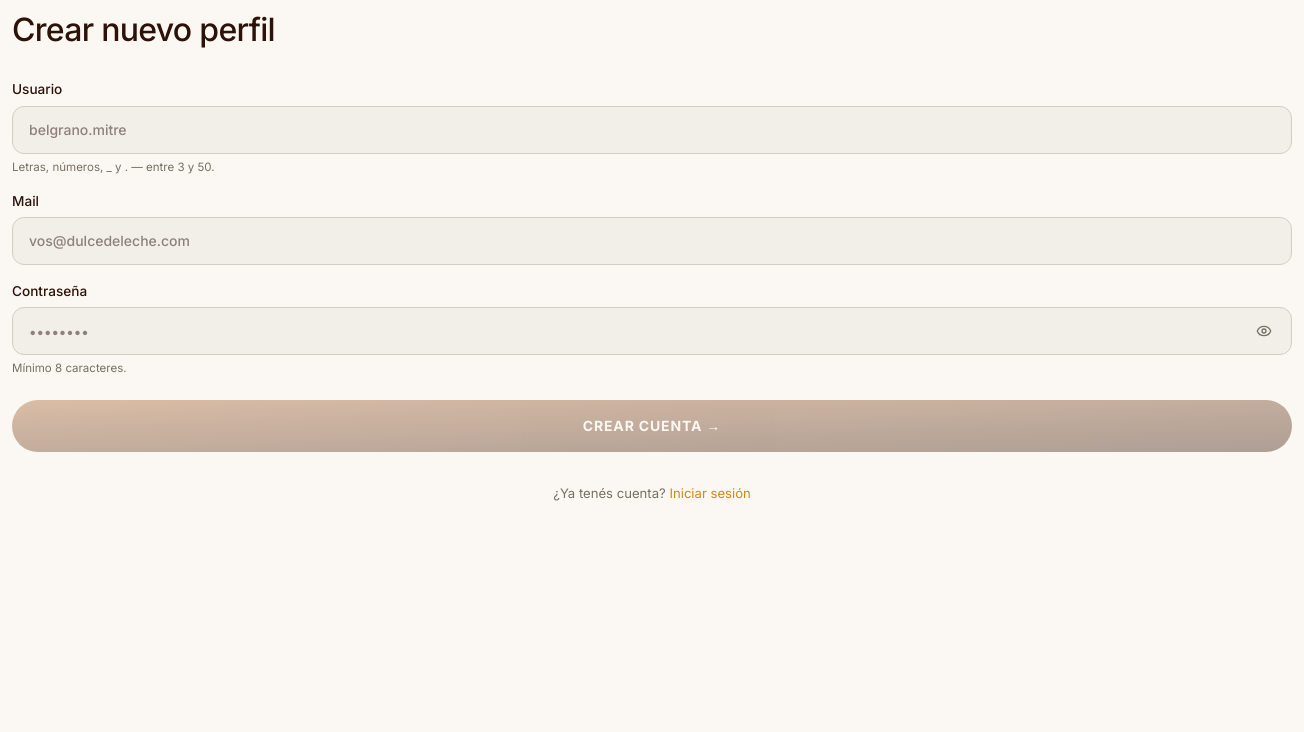
Test: SignUpForm › passes through an unrecognized 409 message
In the field labelled "Usuario": (652, 130) [12,106,1292,154], type "belgrano"
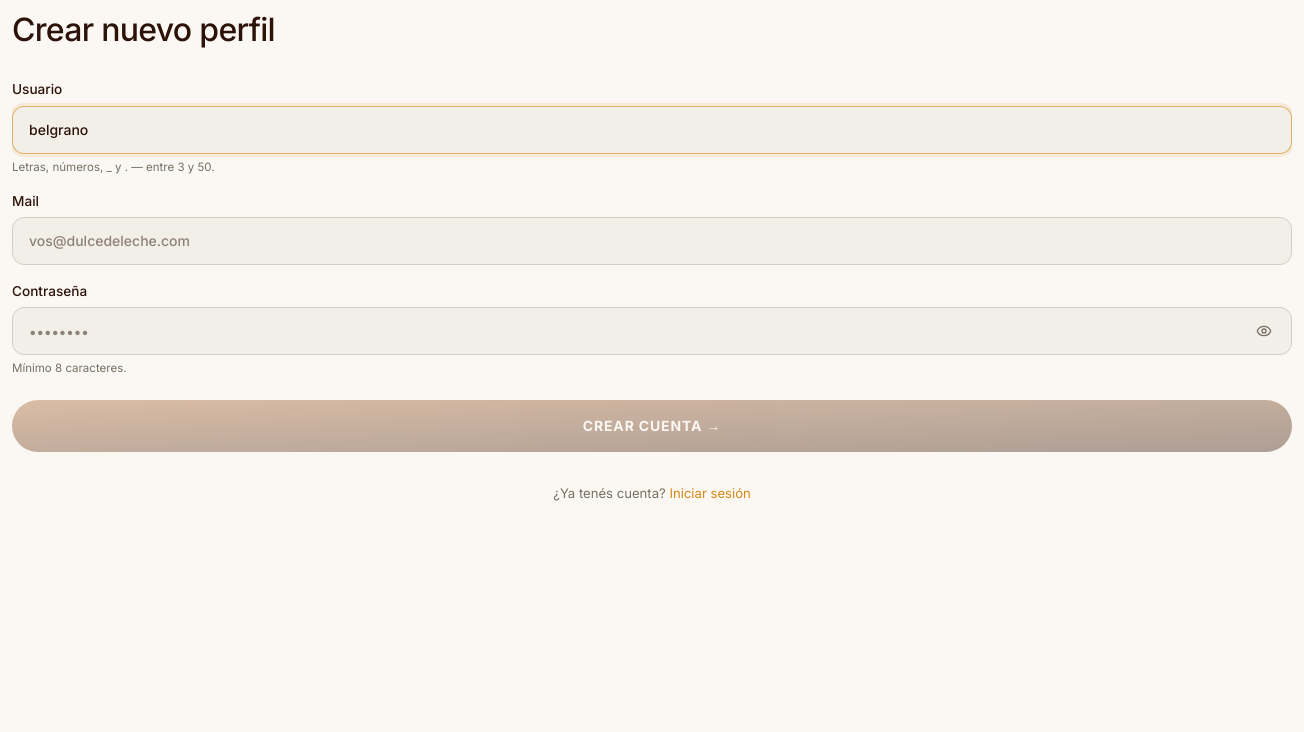
In the field labelled "Mail": (652, 241) [12,217,1292,265], type "a@b.com"
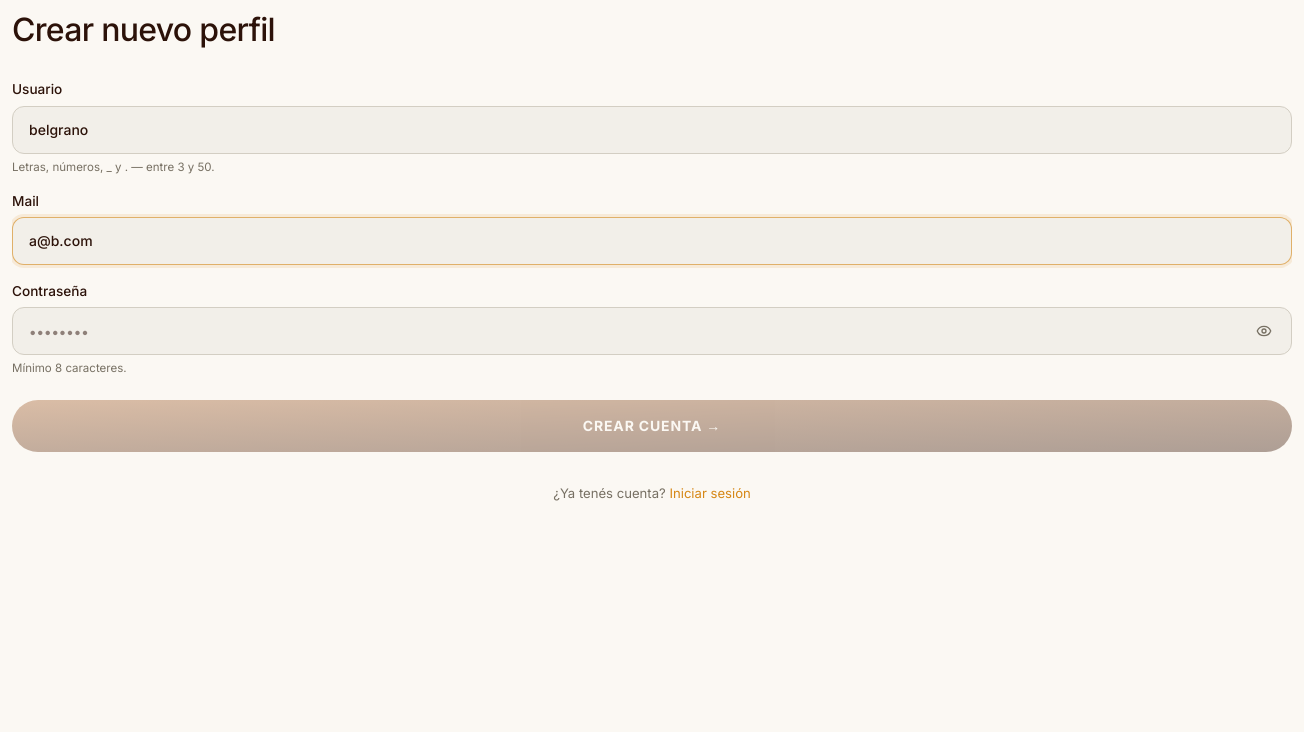
In the password field labelled "Contraseña": (652, 331) [12,307,1292,355], type "longenough"
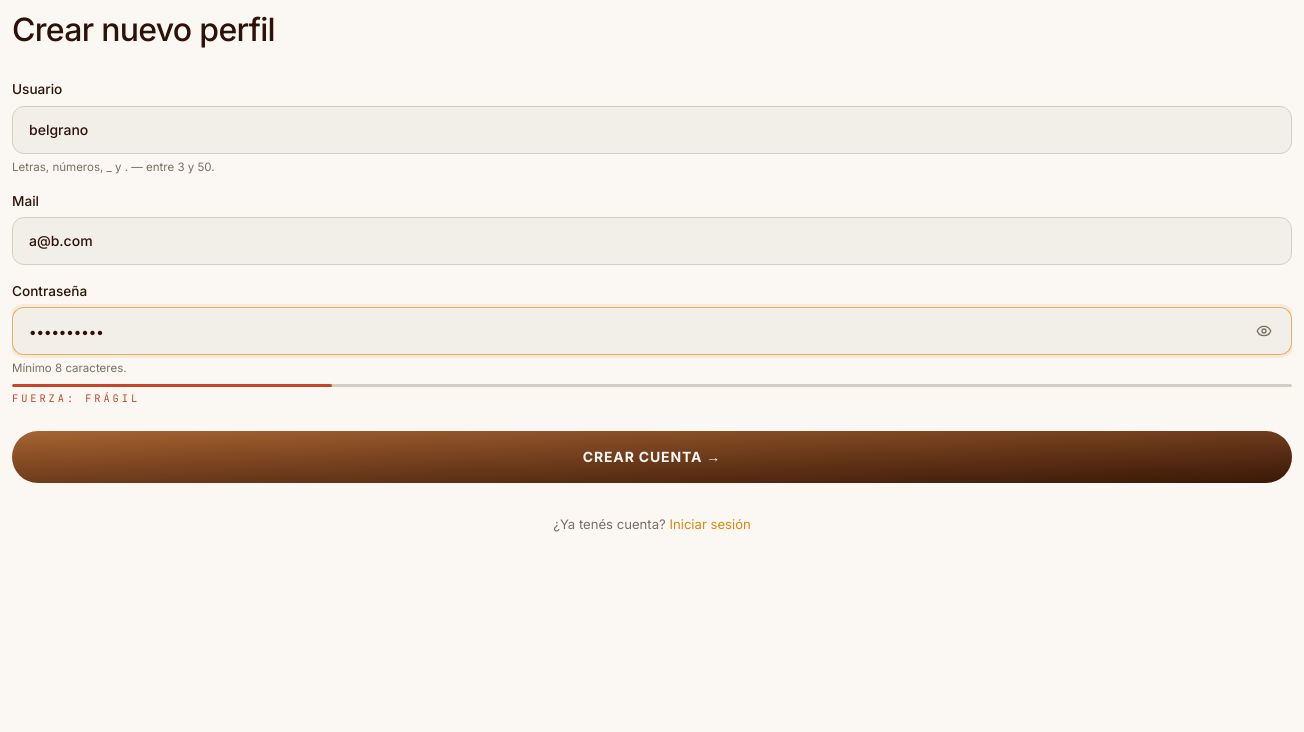
Click the button "Crear cuenta →": (652, 457) [12,431,1292,483]
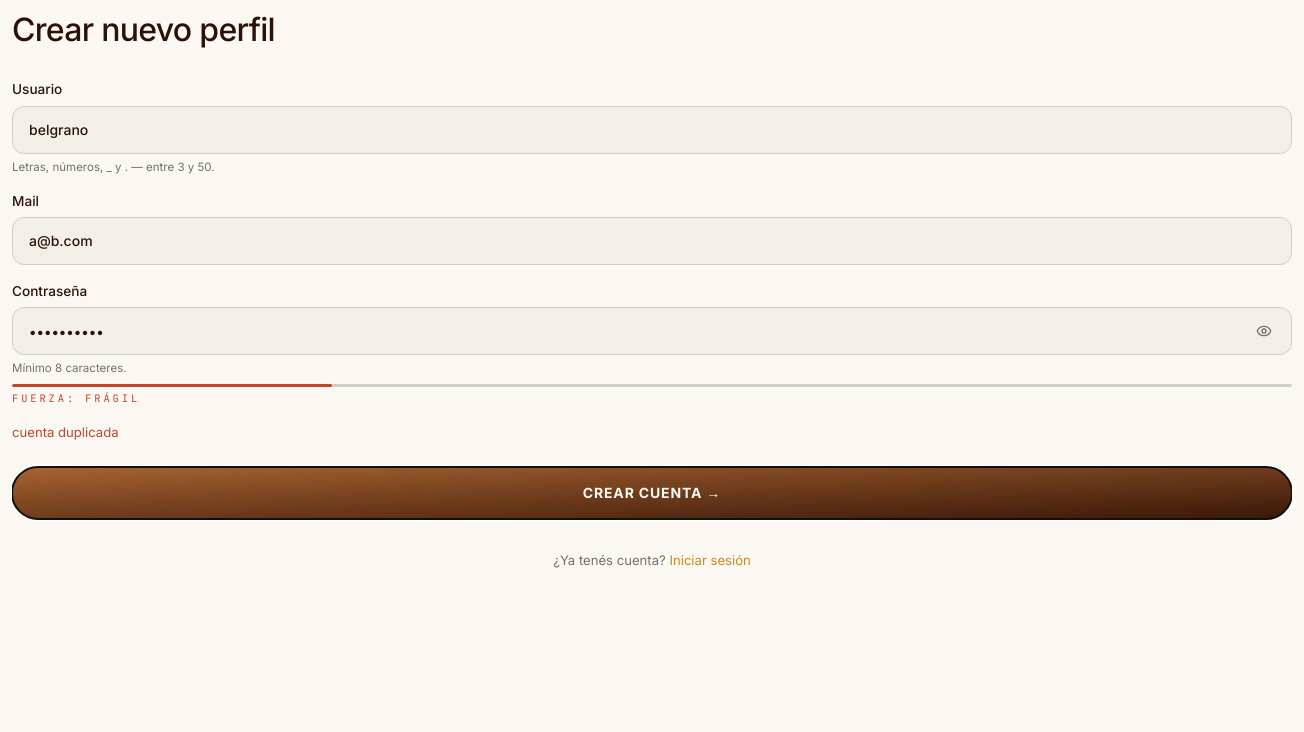
Expected: the message reads "cuenta duplicada", [12,424,119,440]
